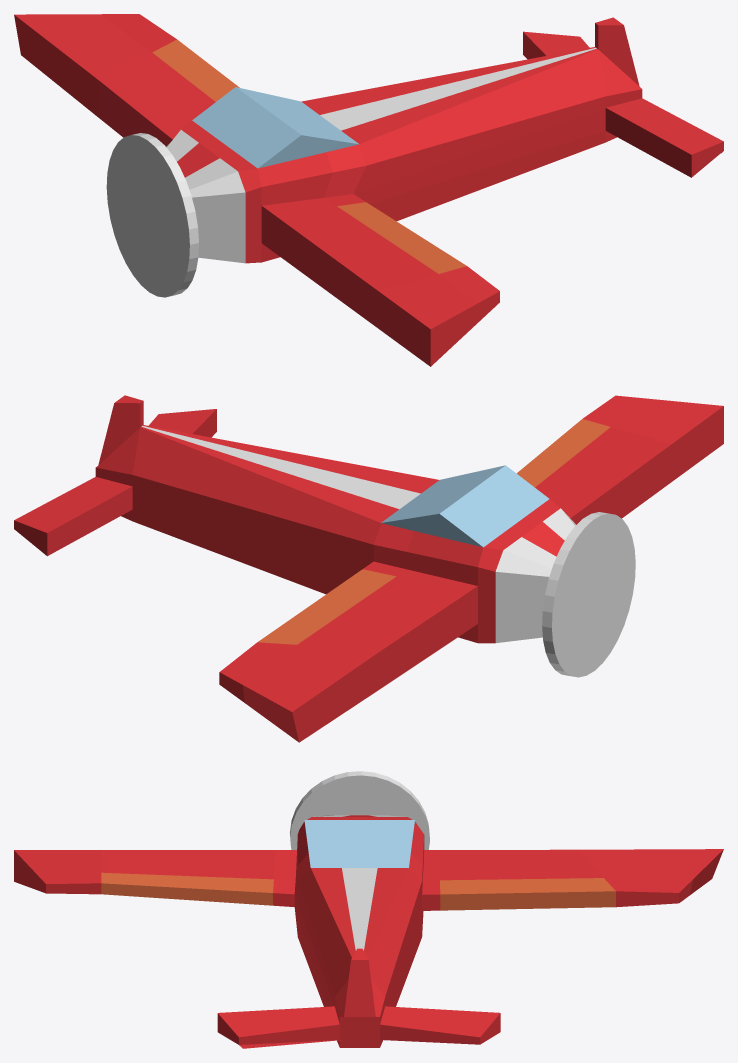
3 views of the same model, one above another, from view 1: azimuth 30°, elevation 25°; view 2: azimuth 150°, elevation 25°; view 3: azimuth 270°, elevation 25° (orthographic). The views are drawn at different scales.
Visible parts, largest first — view 1: Cube; view 2: Cube; view 3: Cube.
Part boxes in pixels (x1,y1,x2,y2): Cube: (14,14,723,366); Cube: (14,395,723,742); Cube: (14,771,723,1048).
Size of the model in its own units: 699 by 210 by 1015.
